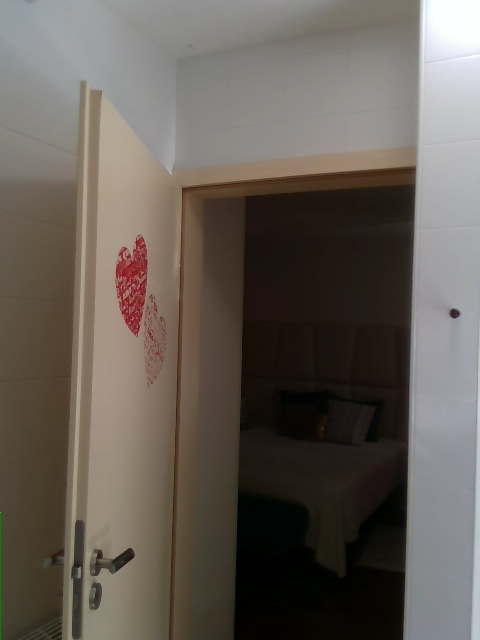open: (61, 78, 424, 639)
